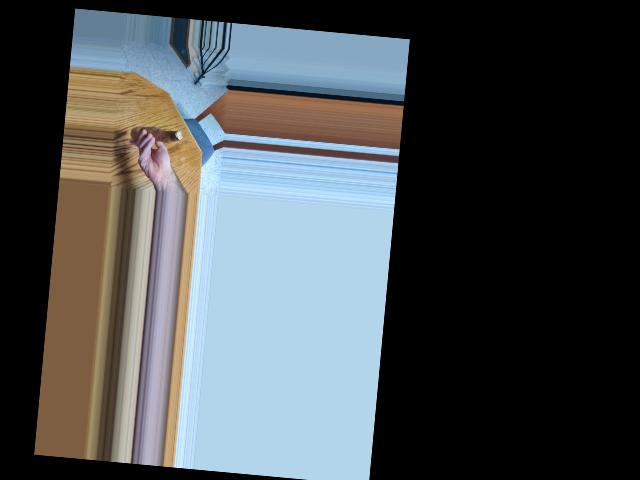sweet_potato: (133, 121, 180, 147)
